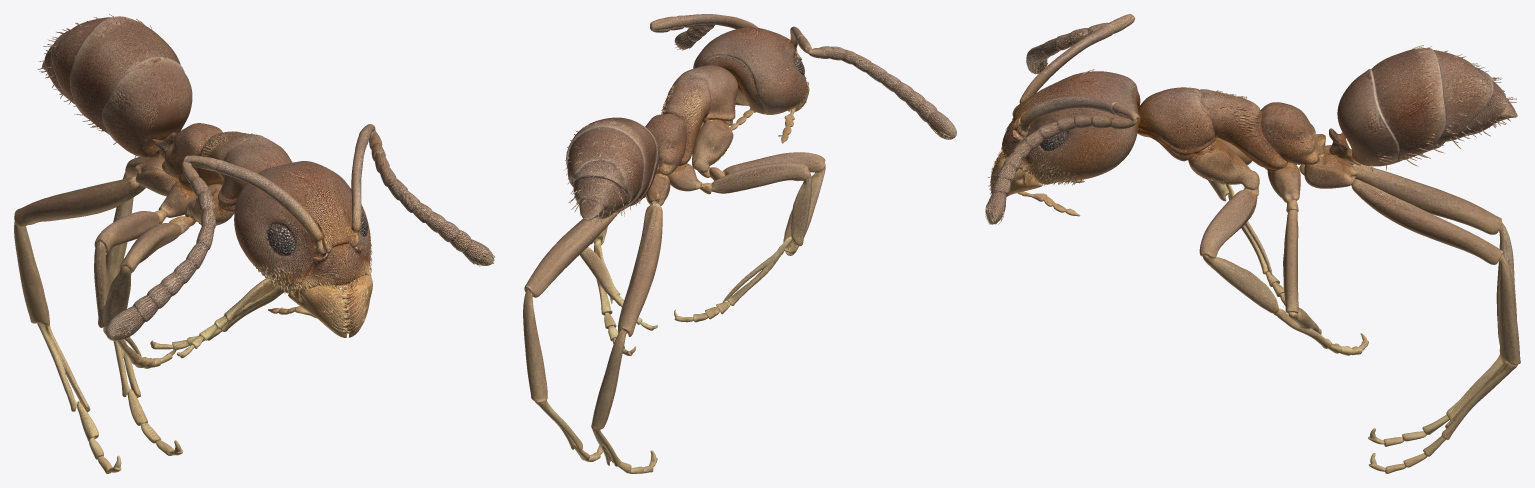
File: esp2.glb
The picture shows the model from 3 angles, left to right: view 1: azimuth 30°, elevation 25°; view 2: azimuth 150°, elevation 25°; view 3: azimuth 270°, elevation 25°; orthographic projection. The views are drawn at different scales.
Bounding box in the file's own units: 1.41 × 1.61 × 1.9.
1 material, 1 textured.
